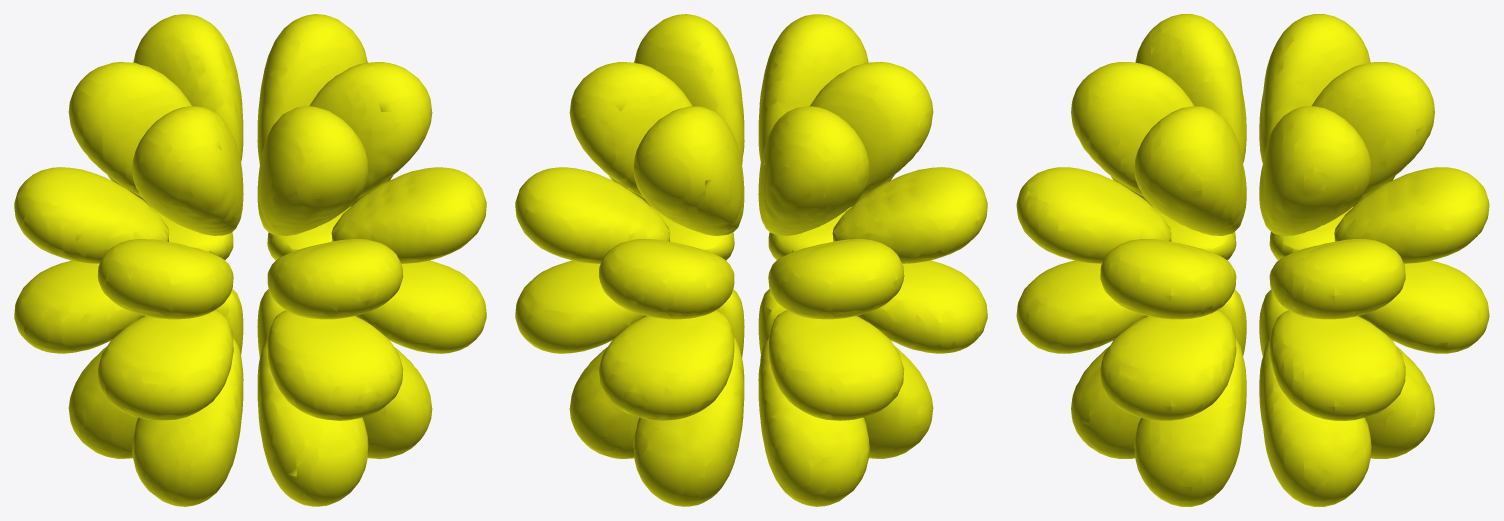
File: orb_n=7_ l=6 _m=-3.fbx
3 views of the same model, side by side, from view 1: azimuth 30°, elevation 25°; view 2: azimuth 150°, elevation 25°; view 3: azimuth 270°, elevation 25° (orthographic).
Parts seen in each view (by area): view 1: orb_n=7_ l=6 _m=-3; view 2: orb_n=7_ l=6 _m=-3; view 3: orb_n=7_ l=6 _m=-3.
Part boxes in pixels (x1=…): orb_n=7_ l=6 _m=-3: x1=14, y1=14, x2=486, y2=506; orb_n=7_ l=6 _m=-3: x1=515, y1=14, x2=987, y2=506; orb_n=7_ l=6 _m=-3: x1=1016, y1=14, x2=1489, y2=506.
Bounding box in the file's own units: 14003 × 14049 × 15437.
